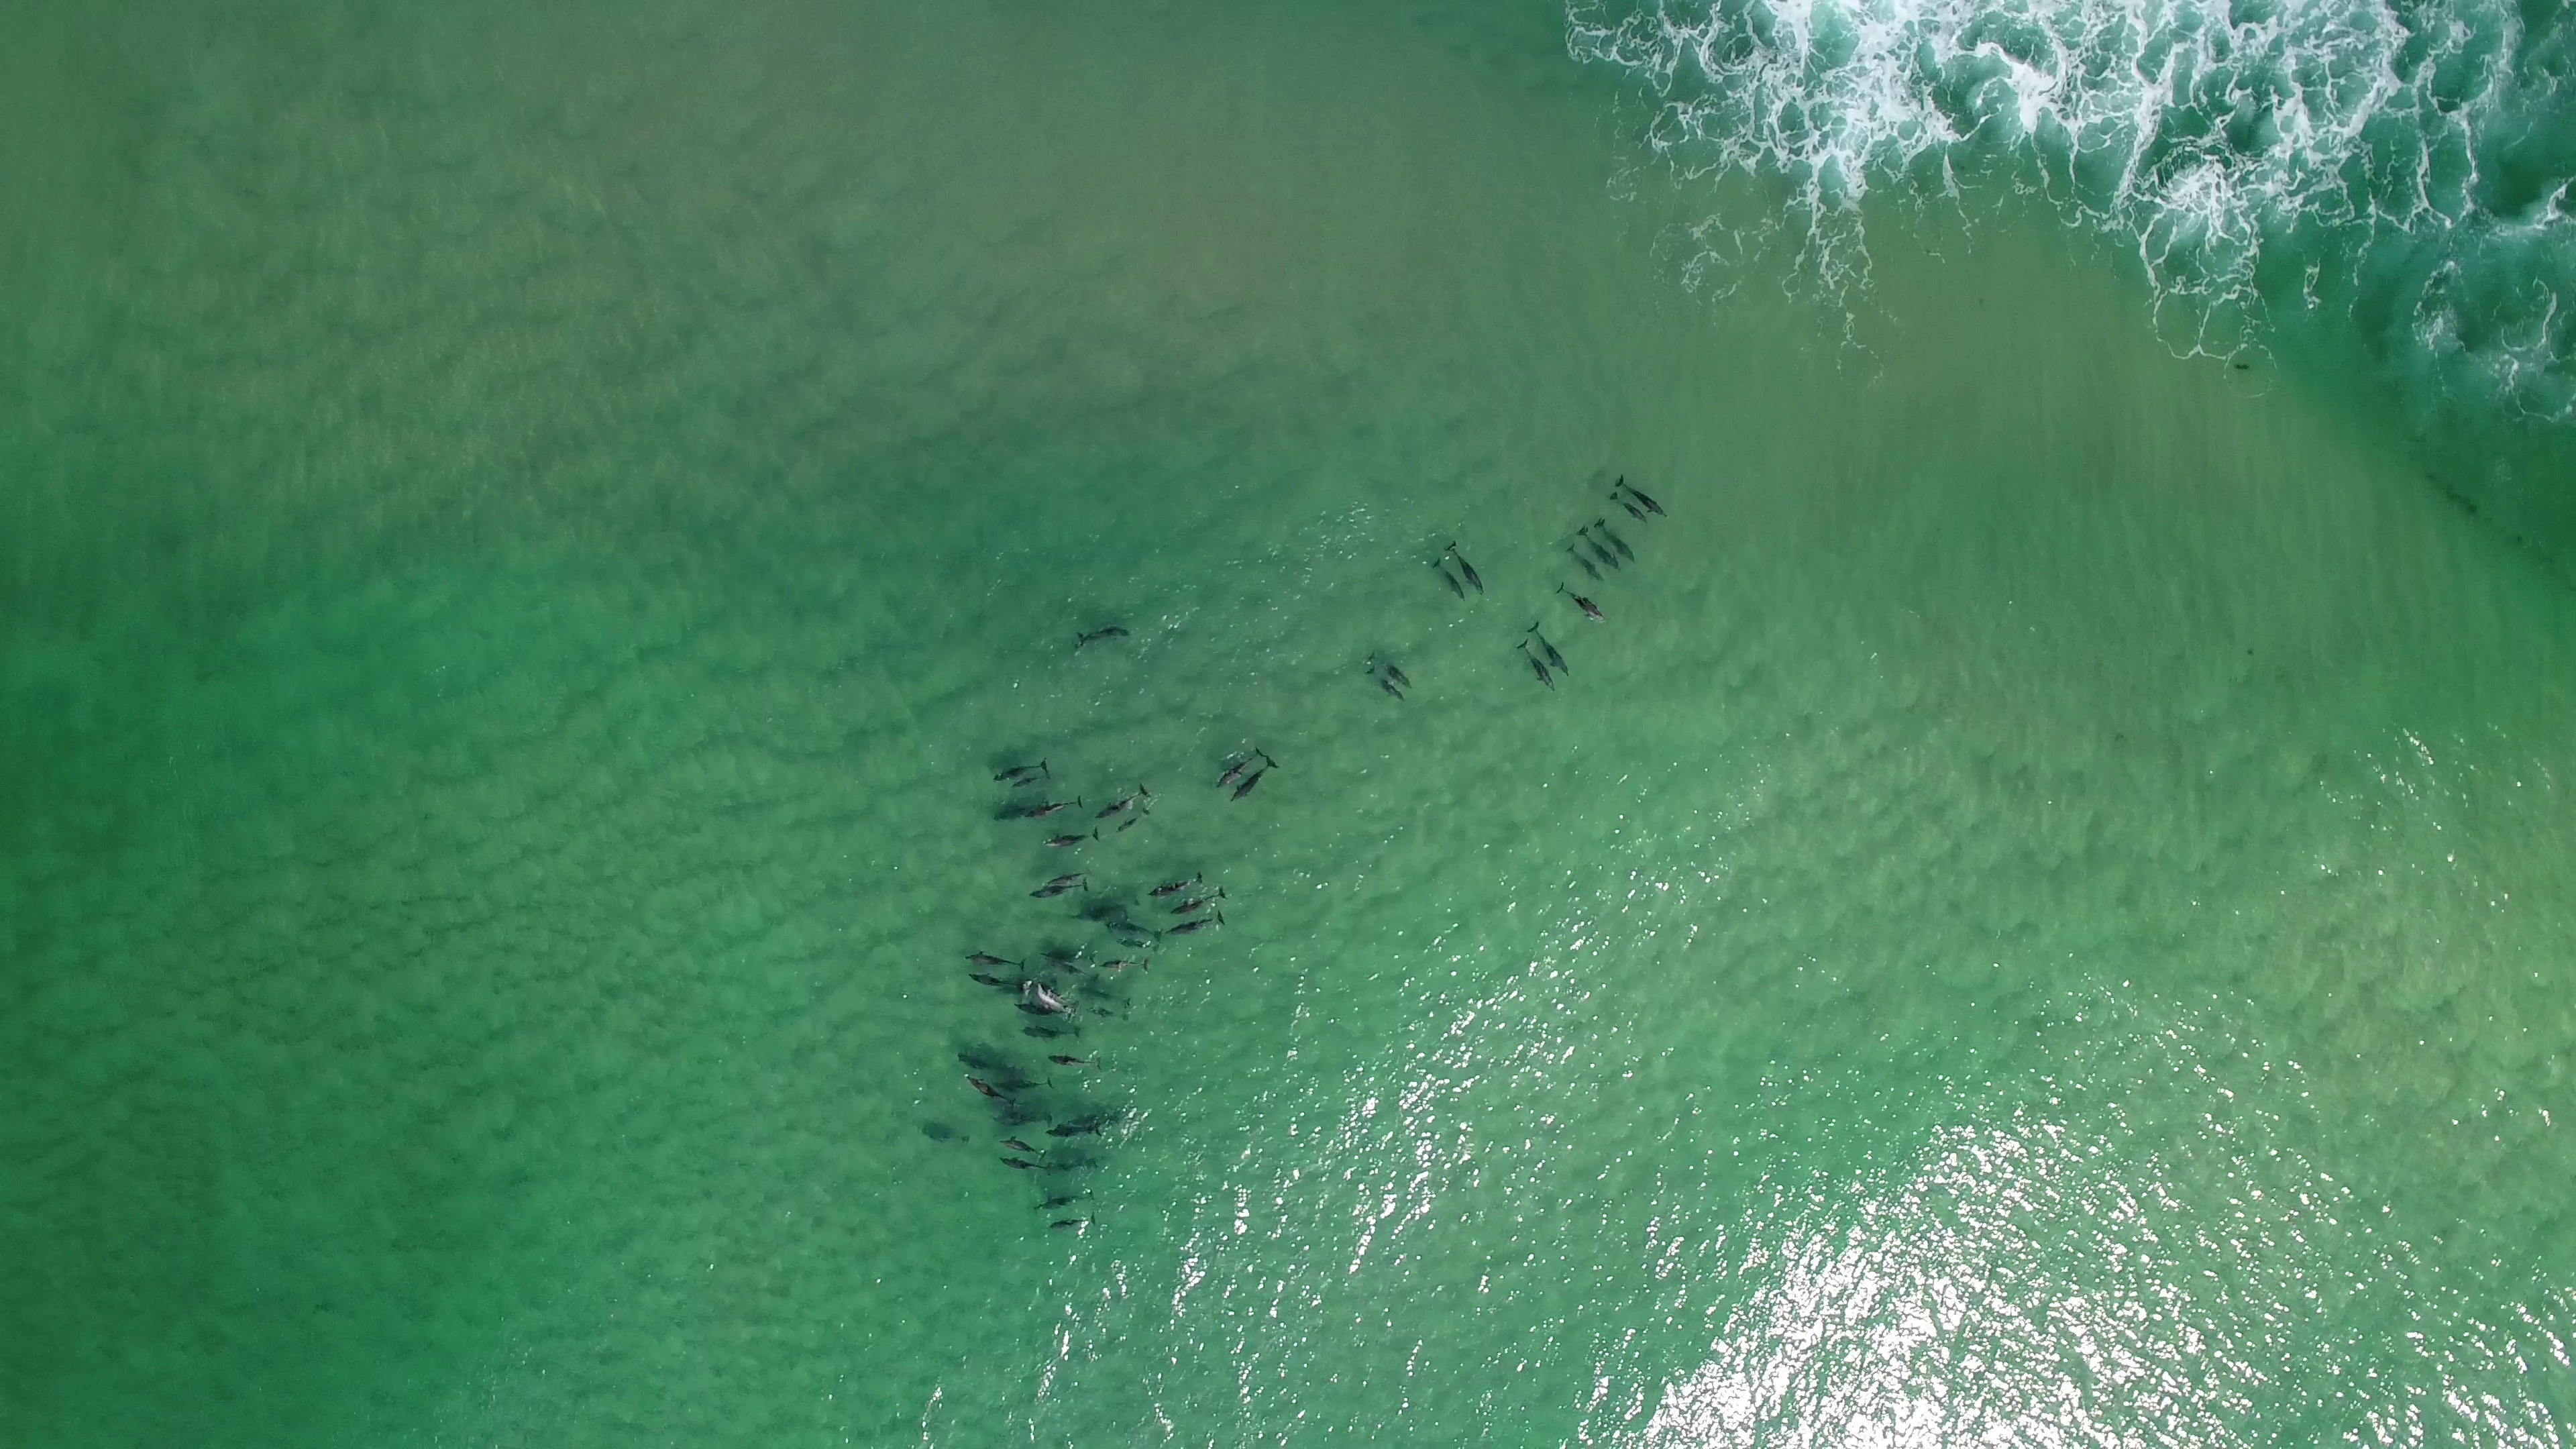dolphin: (1615, 472, 1668, 520), (1529, 619, 1569, 678), (1444, 538, 1484, 596), (1231, 754, 1279, 803), (1576, 524, 1624, 571), (1215, 743, 1263, 789), (1518, 639, 1557, 694), (1368, 649, 1415, 694), (1093, 782, 1148, 819), (1557, 580, 1605, 623), (1040, 948, 1097, 982), (1040, 824, 1106, 853), (1171, 885, 1226, 918), (1596, 517, 1635, 563), (1148, 869, 1203, 901), (1016, 998, 1076, 1026), (991, 796, 1054, 823), (1028, 876, 1092, 902), (964, 1072, 1014, 1106), (1568, 541, 1605, 586), (964, 947, 1026, 973), (1035, 1185, 1097, 1212), (966, 971, 1031, 996), (991, 755, 1051, 782), (1024, 793, 1085, 819), (1072, 897, 1136, 922), (955, 1049, 1019, 1074), (1433, 556, 1467, 602), (1608, 492, 1651, 527), (1106, 918, 1166, 943), (1077, 982, 1132, 1008), (1366, 665, 1405, 702), (1047, 1049, 1104, 1072), (1001, 1155, 1058, 1178), (1074, 625, 1134, 646), (1049, 1210, 1100, 1235), (1113, 805, 1154, 835), (1069, 1108, 1123, 1129), (996, 1108, 1054, 1127), (1046, 863, 1093, 886), (1019, 1023, 1081, 1040), (1000, 1136, 1051, 1157), (993, 1076, 1056, 1092), (1051, 1122, 1106, 1139), (1081, 1003, 1131, 1023), (1099, 957, 1150, 975), (1008, 770, 1053, 789), (1115, 936, 1162, 954), (1046, 948, 1097, 962)
